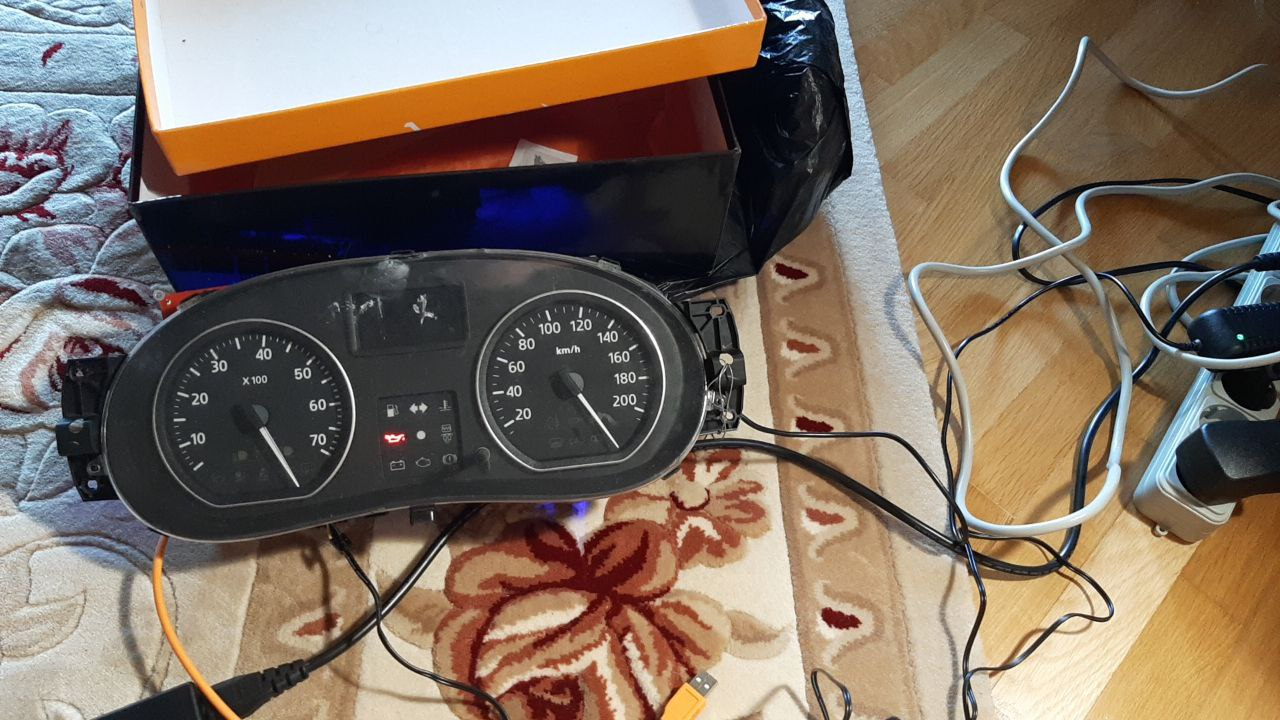oil: (379, 427, 407, 446)
